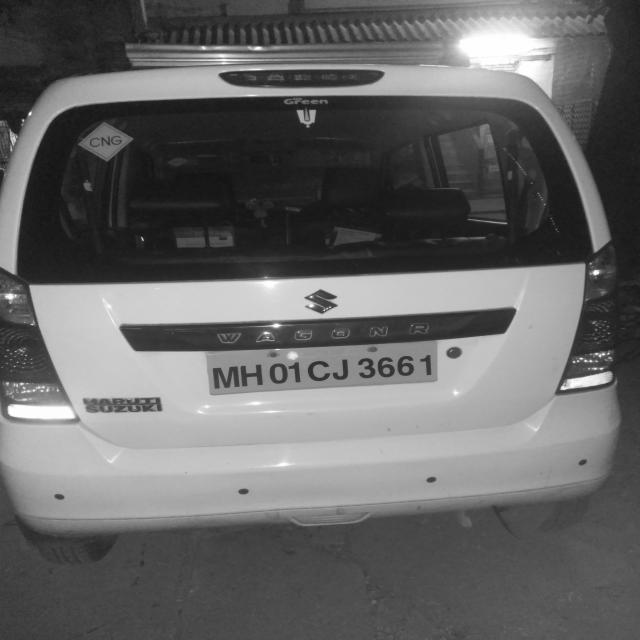car: (2, 61, 622, 551)
license-plate: (204, 340, 448, 399)
